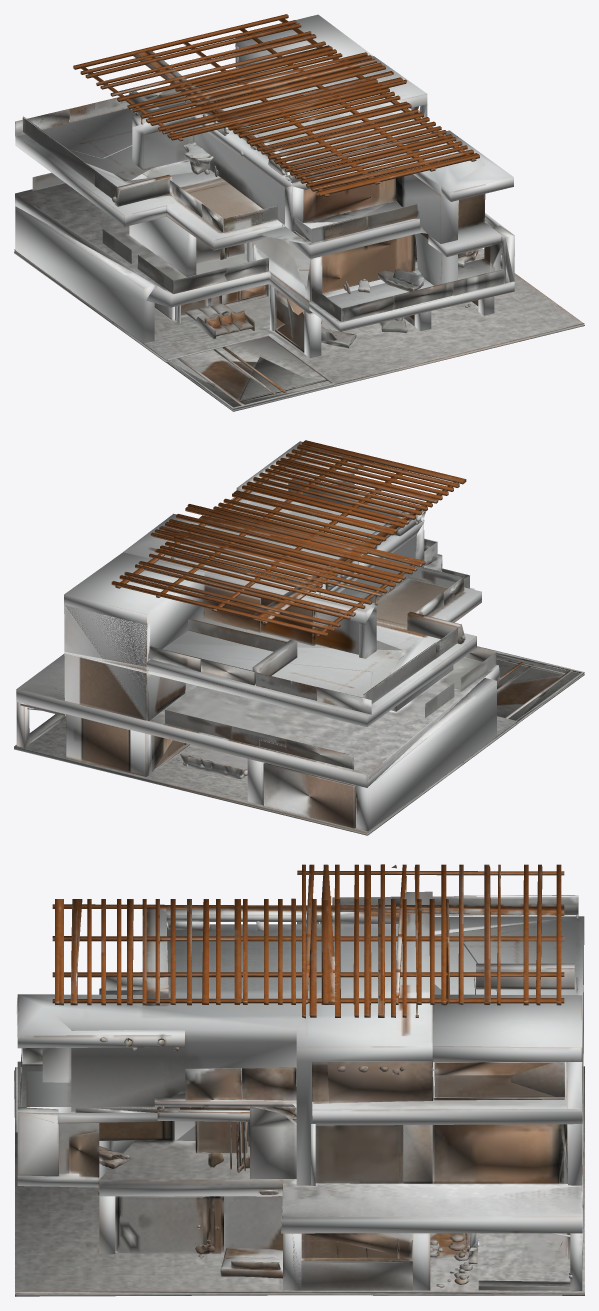
Rendered from villa.glb.
The picture shows the model from 3 angles, top to bottom: view 1: azimuth 30°, elevation 25°; view 2: azimuth 150°, elevation 25°; view 3: azimuth 270°, elevation 25°; orthographic projection. The views are drawn at different scales.
Size of the model in its own units: 0.9014 by 0.4458 by 0.9575.
1 material, 1 textured.
